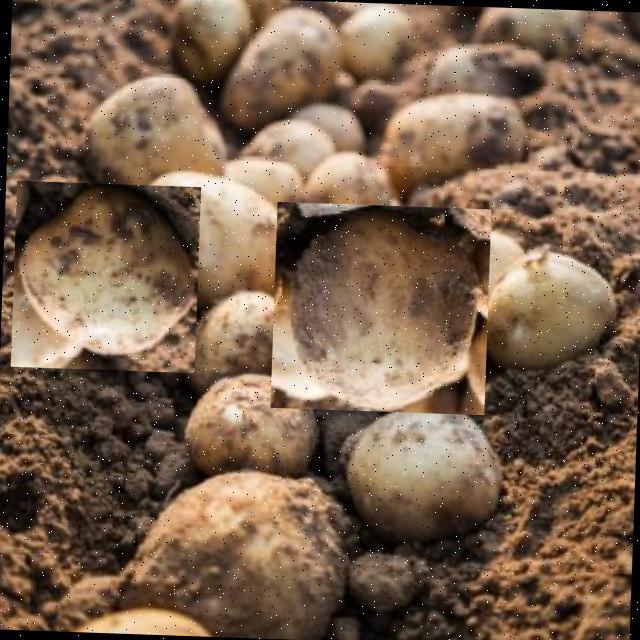Potato: (269, 200, 490, 414), (9, 179, 200, 372), (177, 368, 318, 471)
